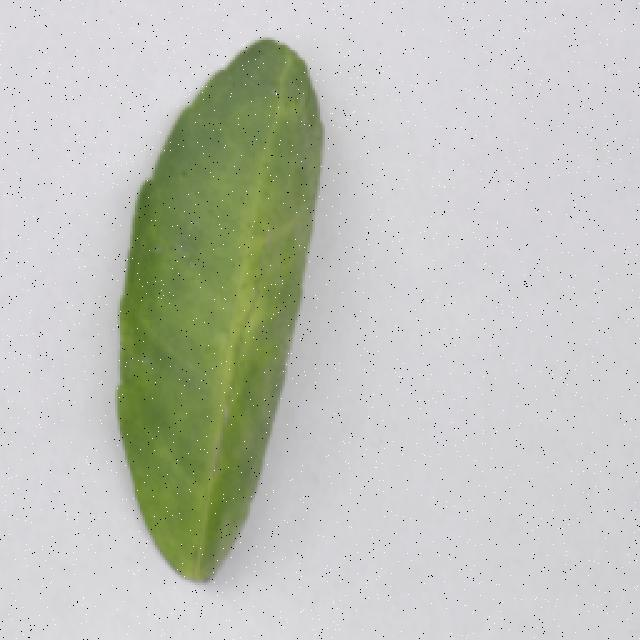greening: (103, 37, 352, 588)
